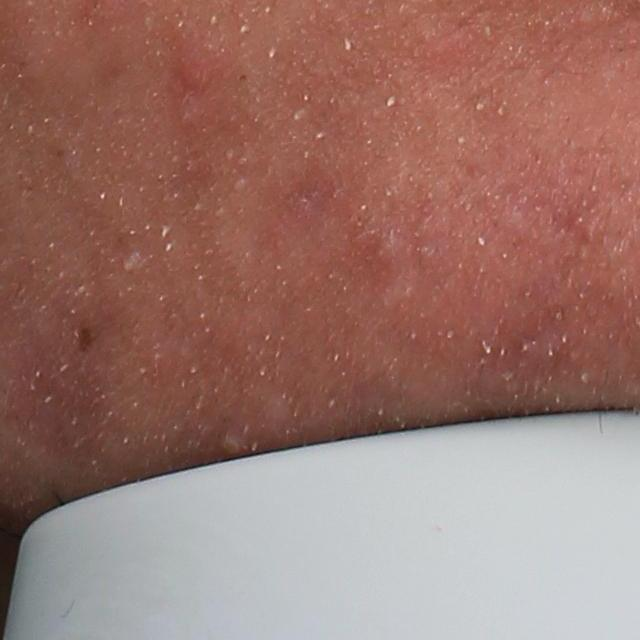comedo: (77, 323, 96, 357)
